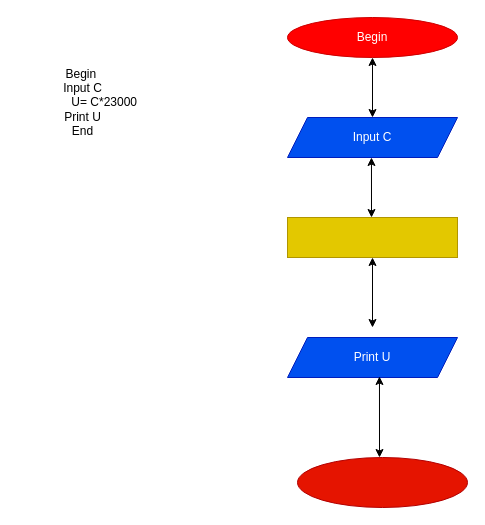
Some shapes in this 485 by 525 pixel diagram are drawn without their labels. The centre of each missing label's shape, as x and y in pixels:
End: point (382, 482)
U = C*23000: point (372, 237)
